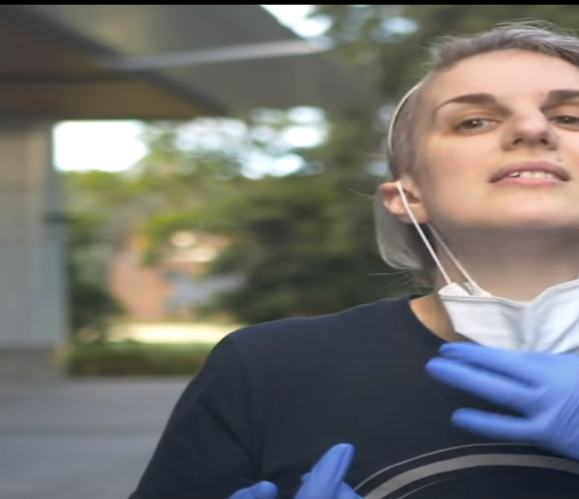mask_weared_incorrect: (380, 19, 578, 348)
